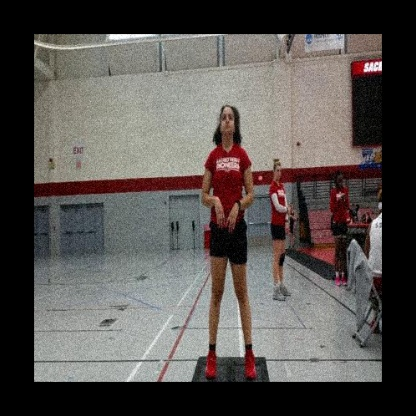lateral_flexion_normal: (200, 97, 260, 382)
stance_width_broad: (200, 139, 259, 382)
